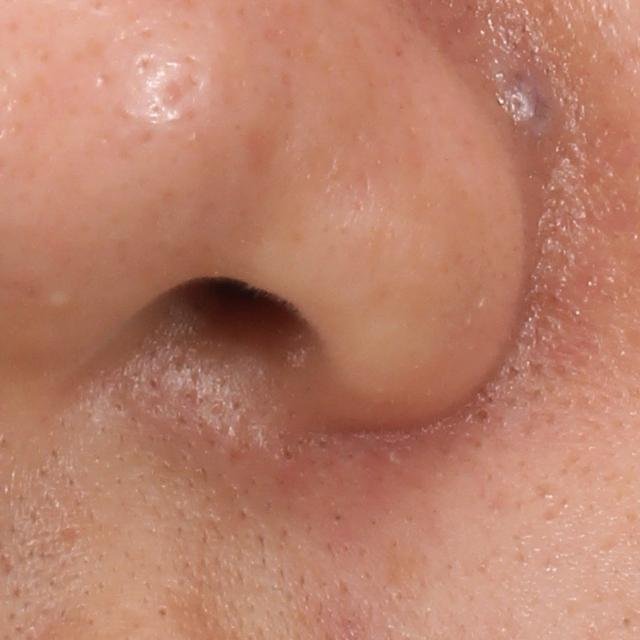comedo: (469, 405, 496, 430)
other: (482, 39, 572, 140), (39, 285, 81, 312)
